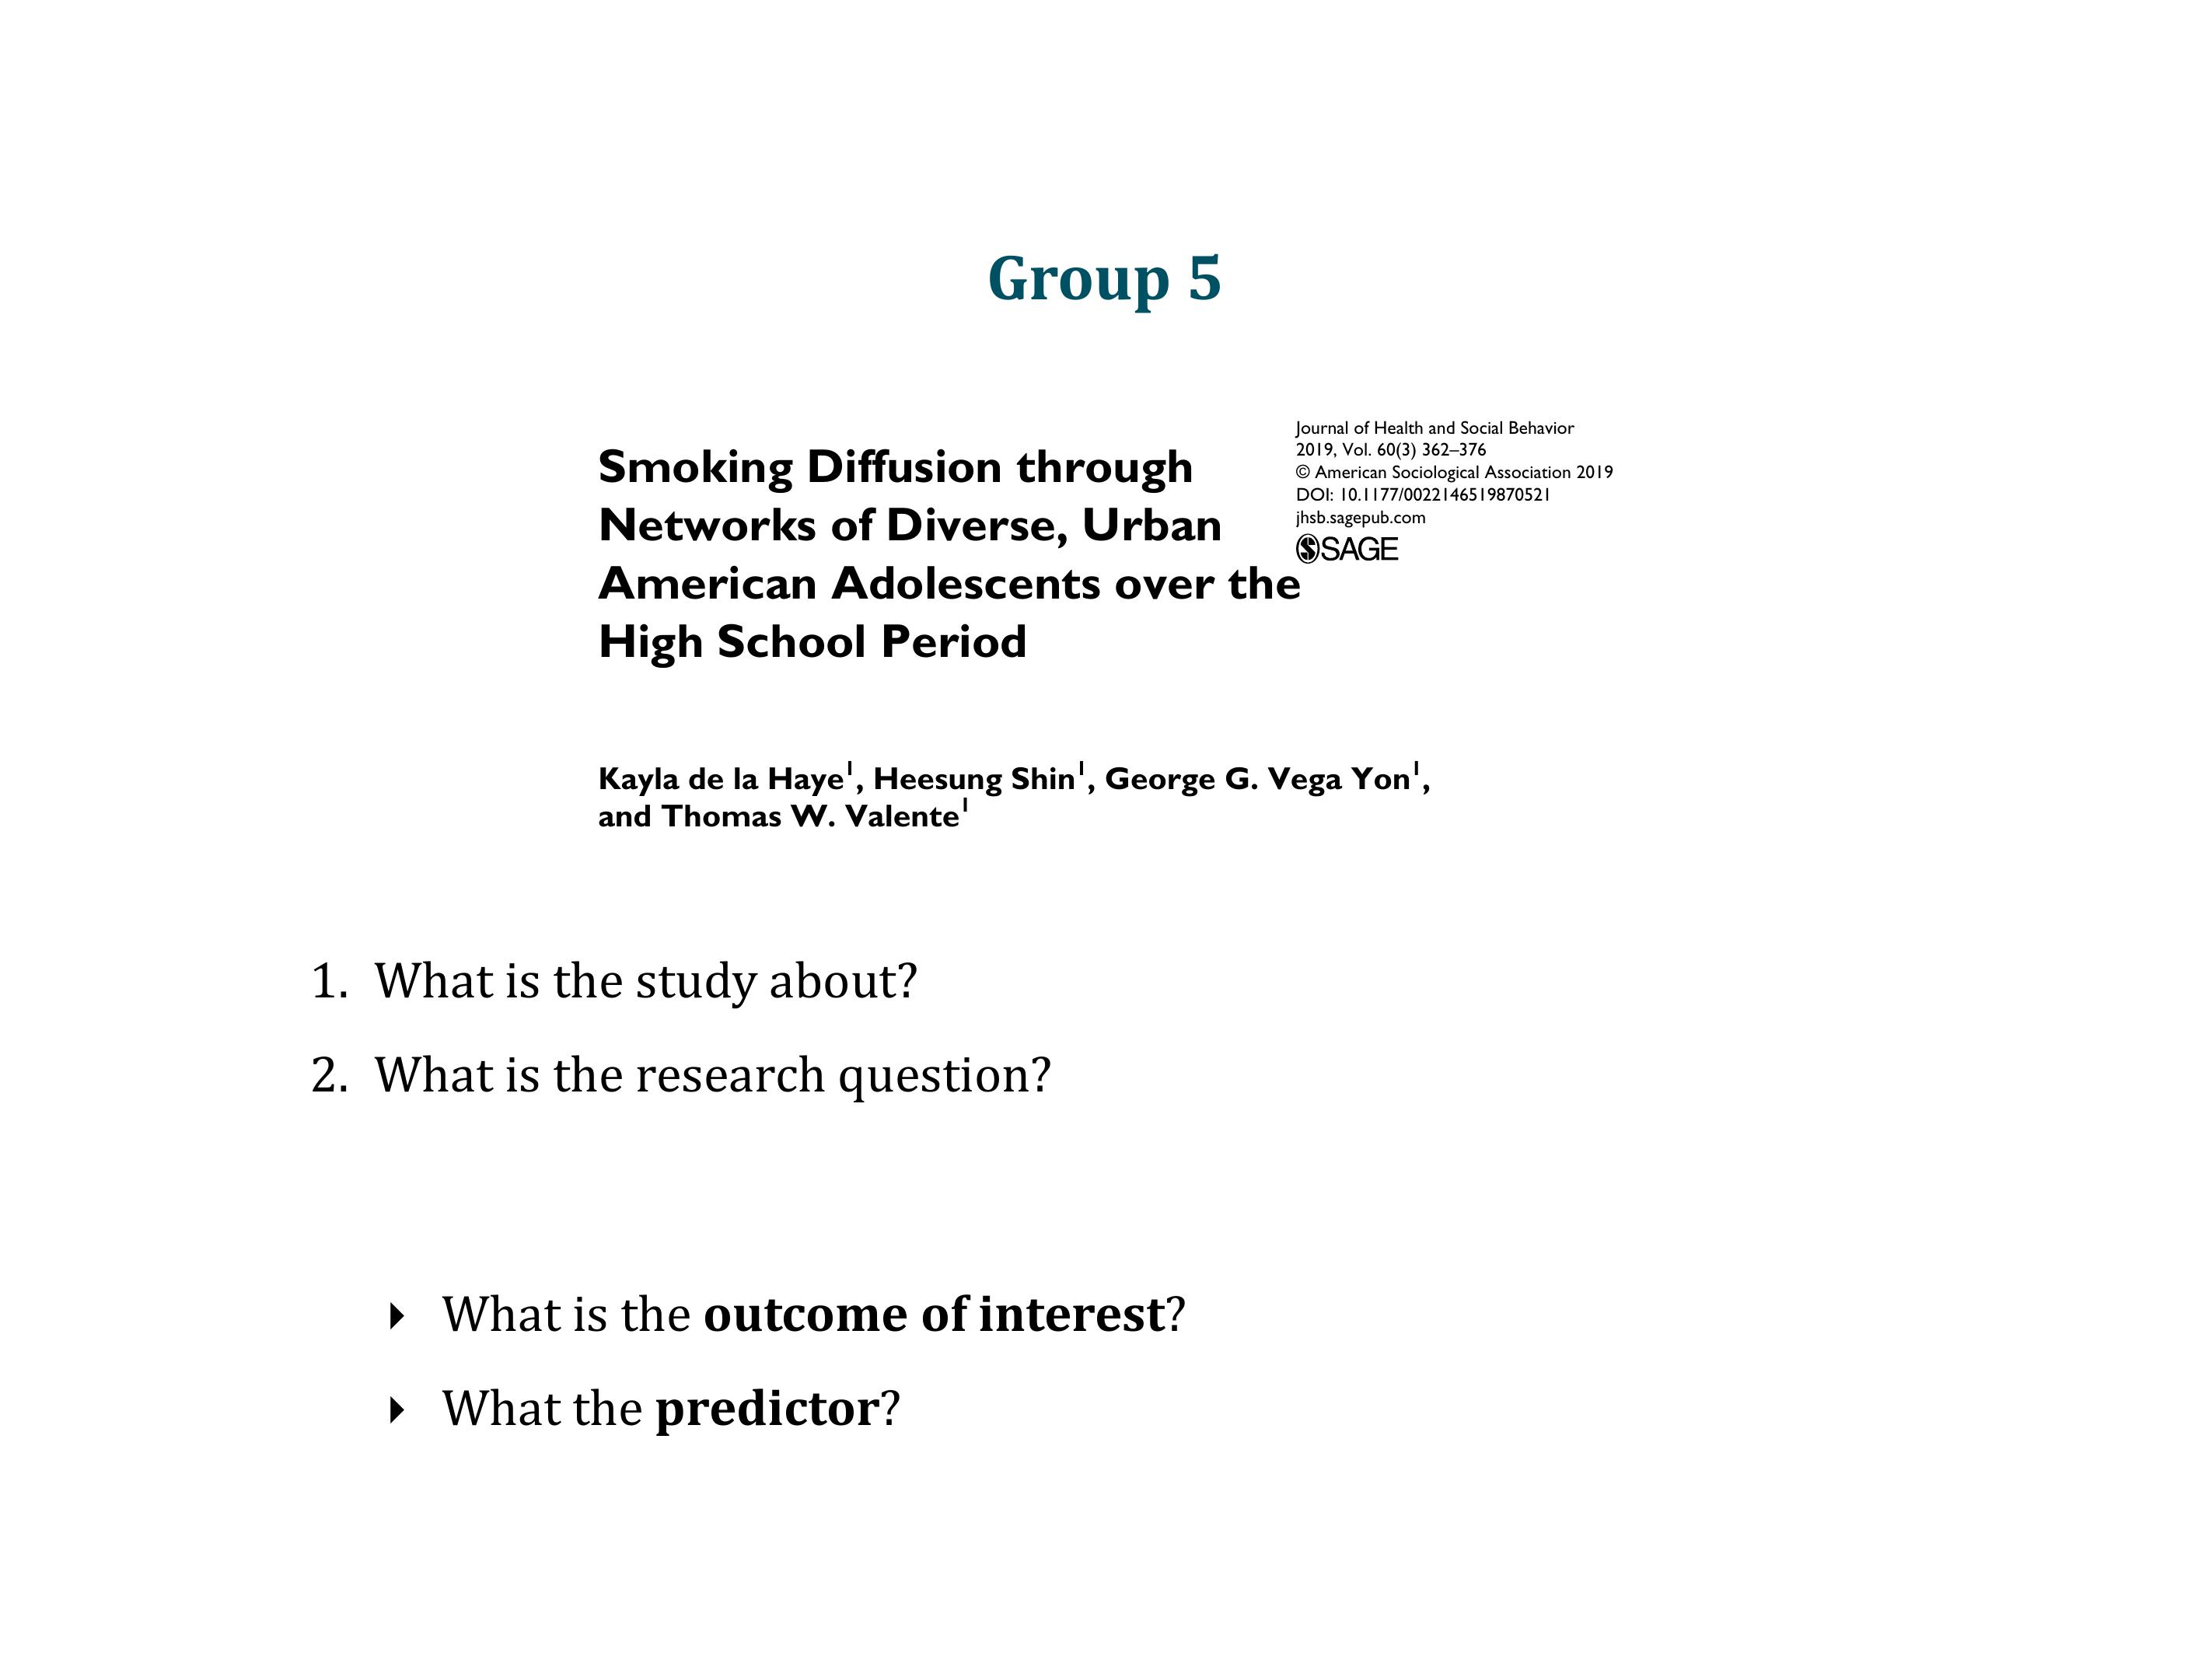Title: (992, 230, 1227, 322)
